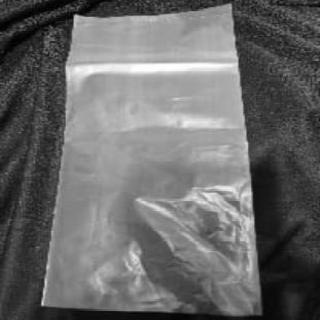objects: (45, 2, 282, 312)
